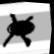not correct: (0, 8, 45, 53)
